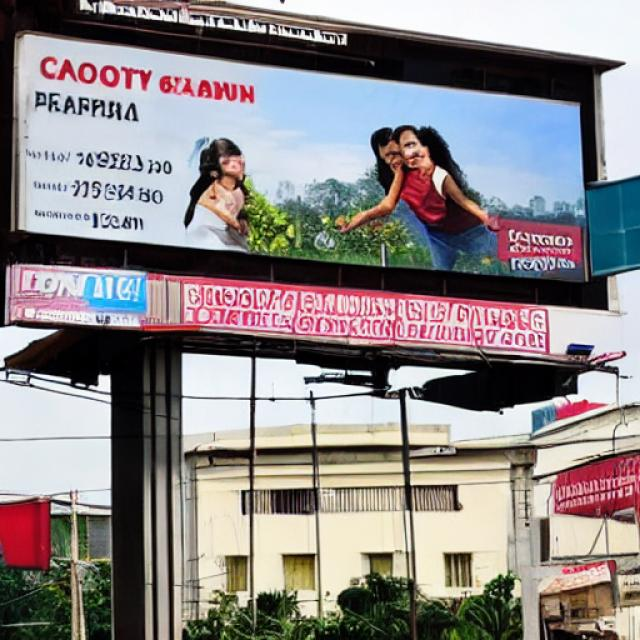Billboard: (8, 29, 601, 298)
